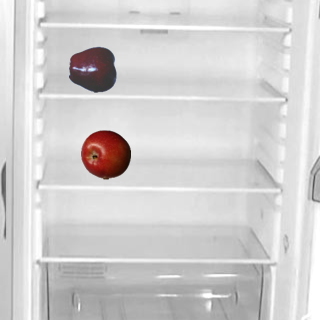Apple Braeburn: (80, 129, 130, 179)
Apple Red Delicious: (68, 44, 118, 94)
